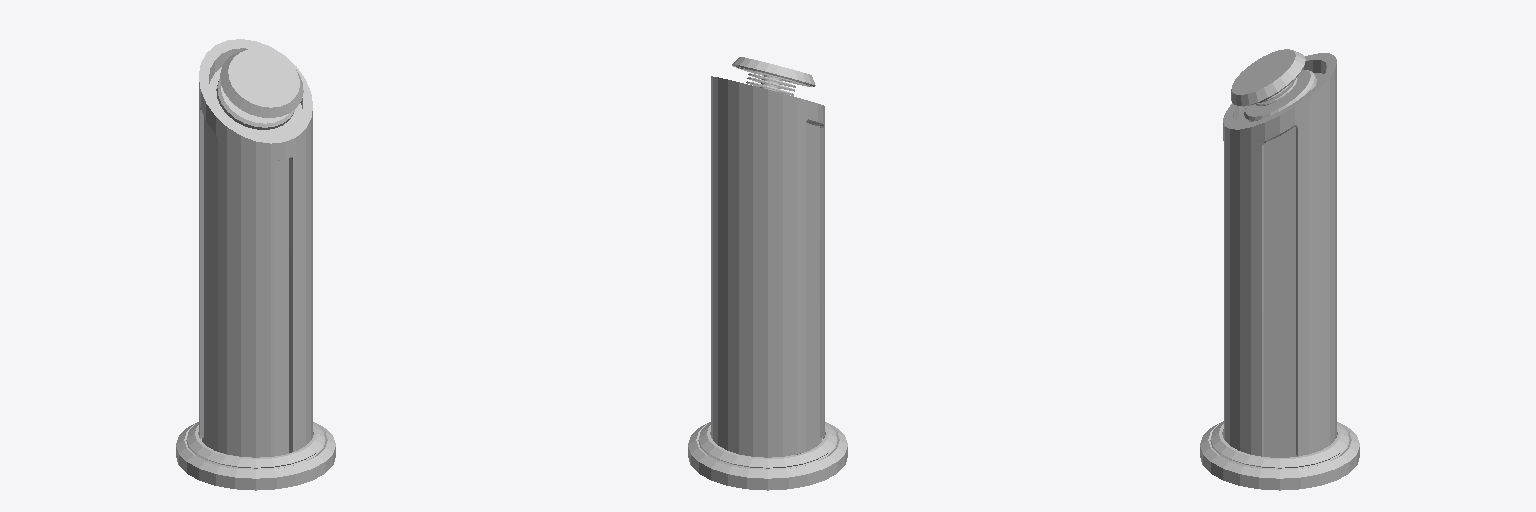
The model's file is EDITOR_switch.obj.
3 views of the same model, side by side, from view 1: azimuth 30°, elevation 25°; view 2: azimuth 150°, elevation 25°; view 3: azimuth 270°, elevation 25° (orthographic).
Visible parts, largest first — view 1: Body.dmx/pedestal_button_model.dmx.mesh_0; view 2: Body.dmx/pedestal_button_model.dmx.mesh_0; view 3: Body.dmx/pedestal_button_model.dmx.mesh_0.
Part boxes in pixels (bbox=[...]): Body.dmx/pedestal_button_model.dmx.mesh_0: bbox=[176, 39, 335, 490]; Body.dmx/pedestal_button_model.dmx.mesh_0: bbox=[688, 57, 847, 490]; Body.dmx/pedestal_button_model.dmx.mesh_0: bbox=[1200, 49, 1359, 490].
Size of the model in its own units: 25.3 by 70.01 by 25.3.